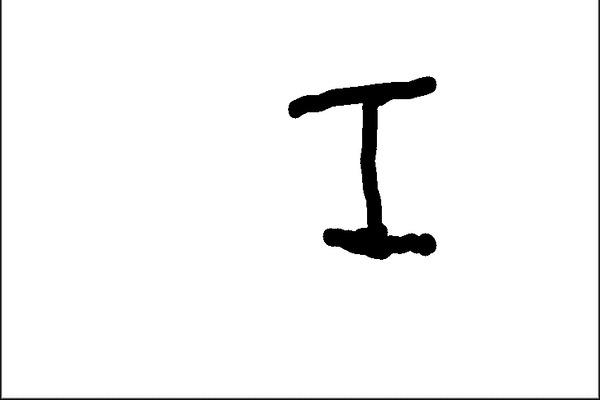i: (280, 71, 457, 269)
